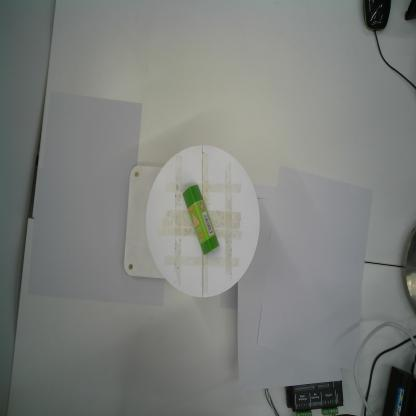Stationery: (182, 183, 221, 257)
